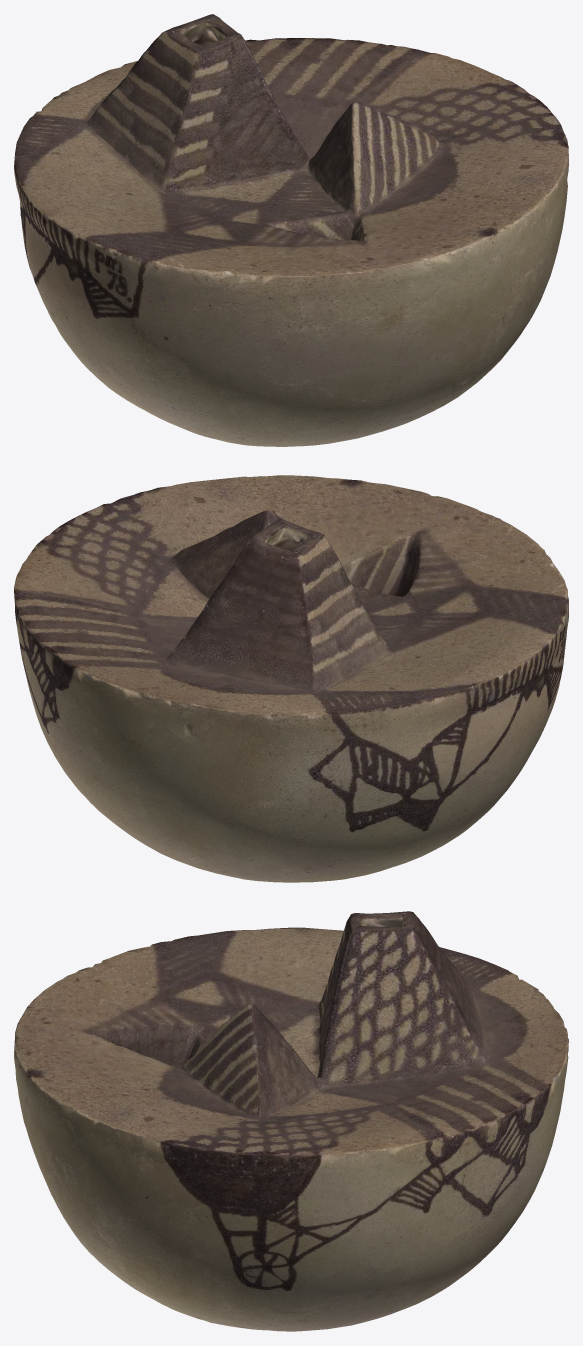
The picture shows the model from 3 angles, top to bottom: view 1: azimuth 30°, elevation 25°; view 2: azimuth 150°, elevation 25°; view 3: azimuth 270°, elevation 25°; orthographic projection.
Visible parts, largest first — view 1: 9-10-4k; view 2: 9-10-4k; view 3: 9-10-4k.
Boxes of the visible parts, bbox=[...] form: 9-10-4k: bbox=[14, 14, 568, 446]; 9-10-4k: bbox=[14, 475, 568, 882]; 9-10-4k: bbox=[14, 911, 568, 1331].
Size of the model in its own units: 4.81 by 3.43 by 4.8.
Materials: 1 (1 with a texture image).
